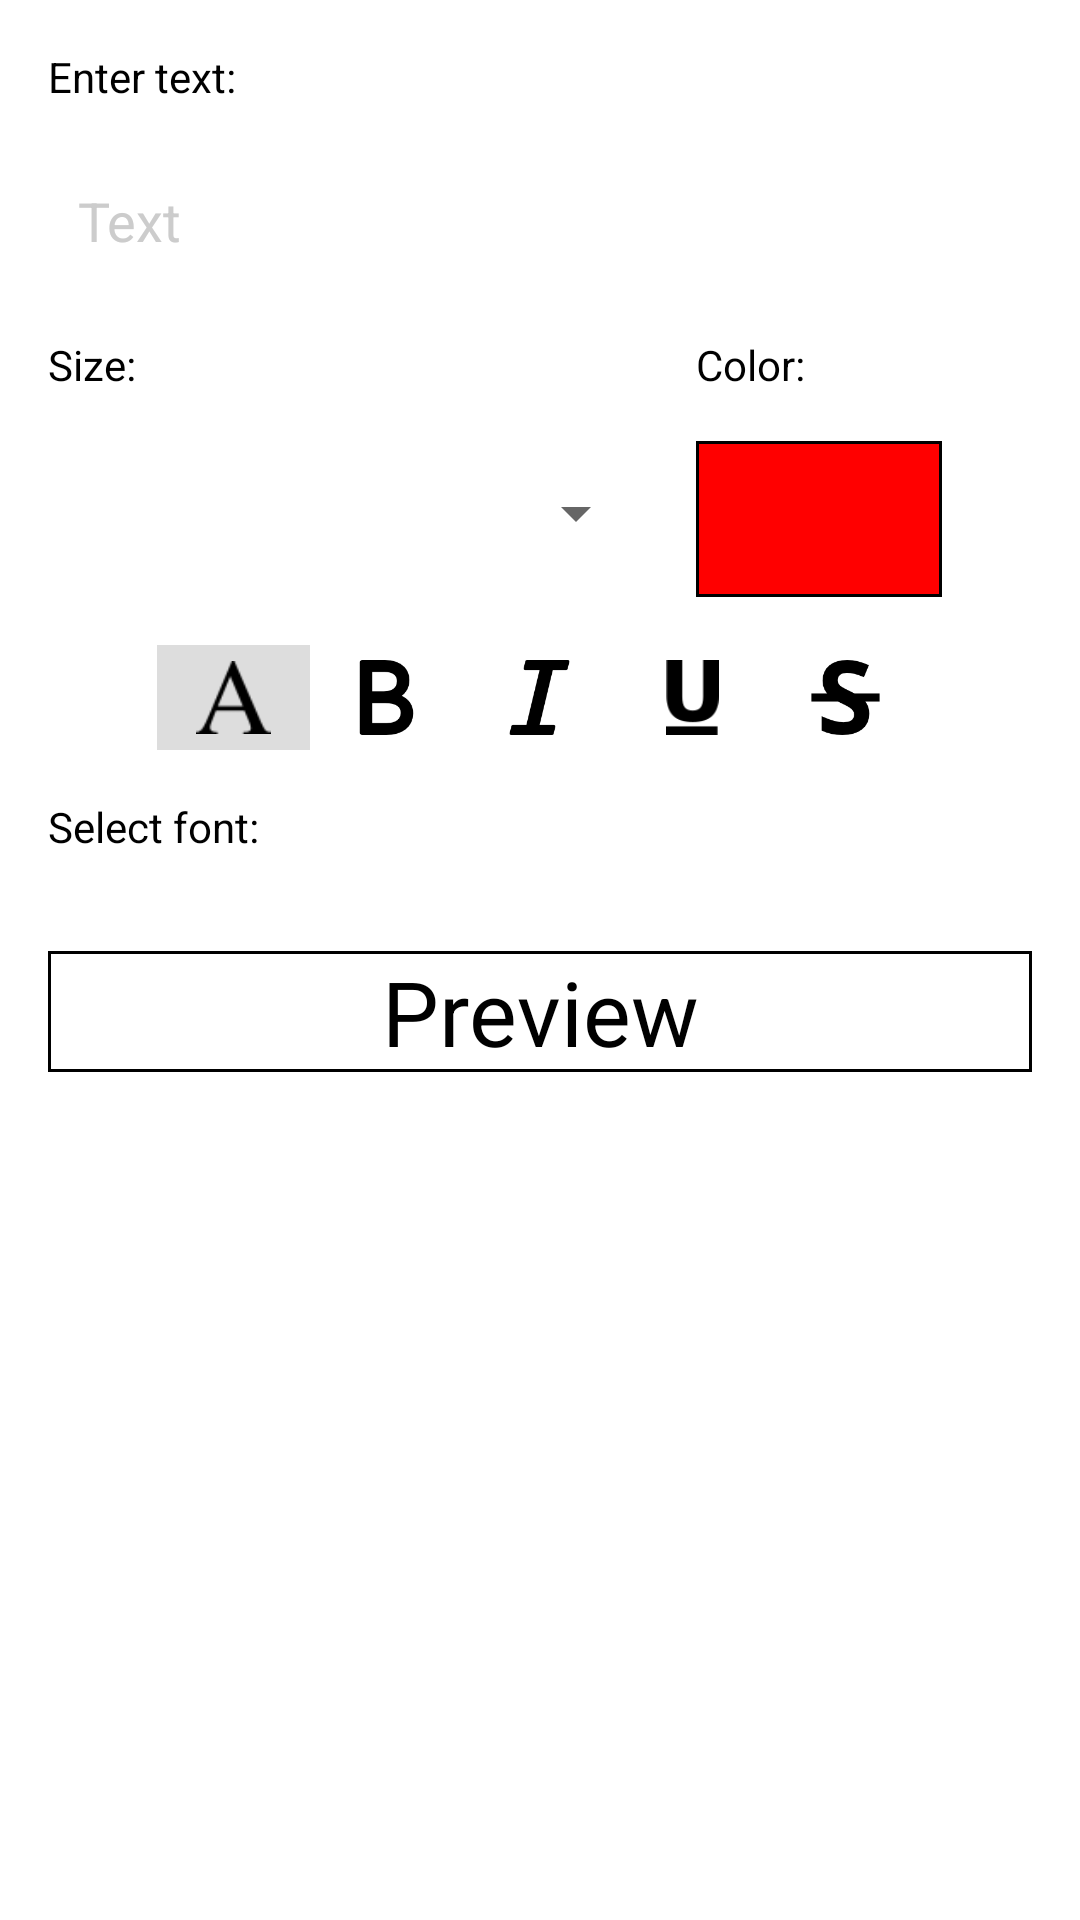

Icon click points for this 1080px×1920px phone screenshot, format (x,y):
italic: (539,697)
plain: (233,697)
strikethrough: (845,697)
underscore: (692,697)
